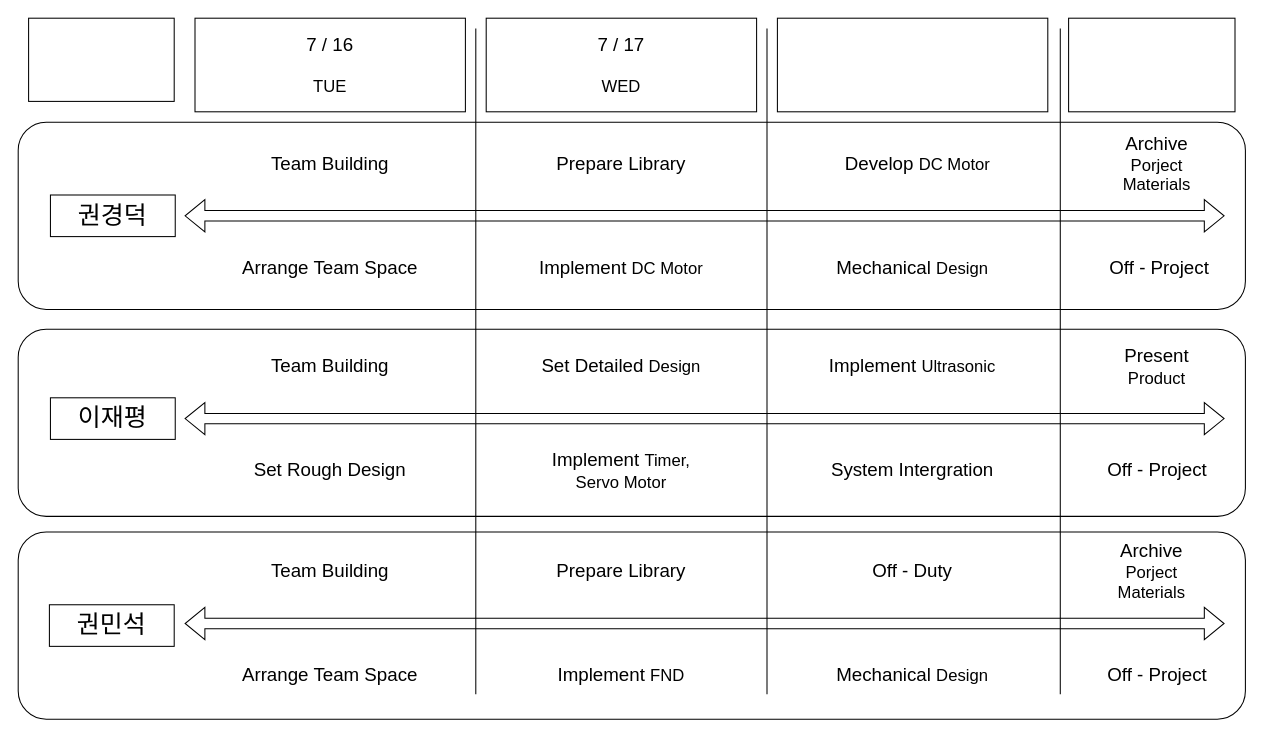
Image size: 1264x737. Some labels were removed from this diagram. Each missing label, with the box of its shape:
7 / 18 THU: (776, 17, 1048, 112)
7 / 19 FRI: (1068, 17, 1235, 112)
A.M. P.M.: (28, 17, 174, 101)
